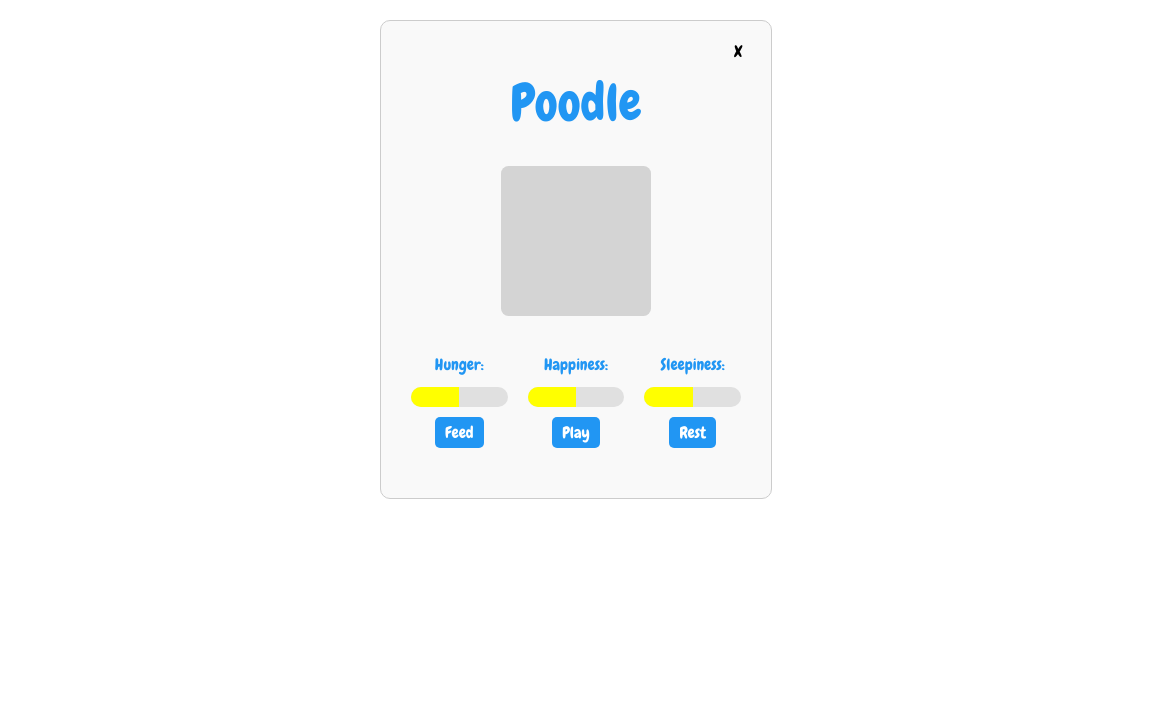
Test: Animal Component › closes the confirmation modal when No is clicked
The image size is (1152, 720).
Click the button "X" at [738, 51], box [715,31,761,71]
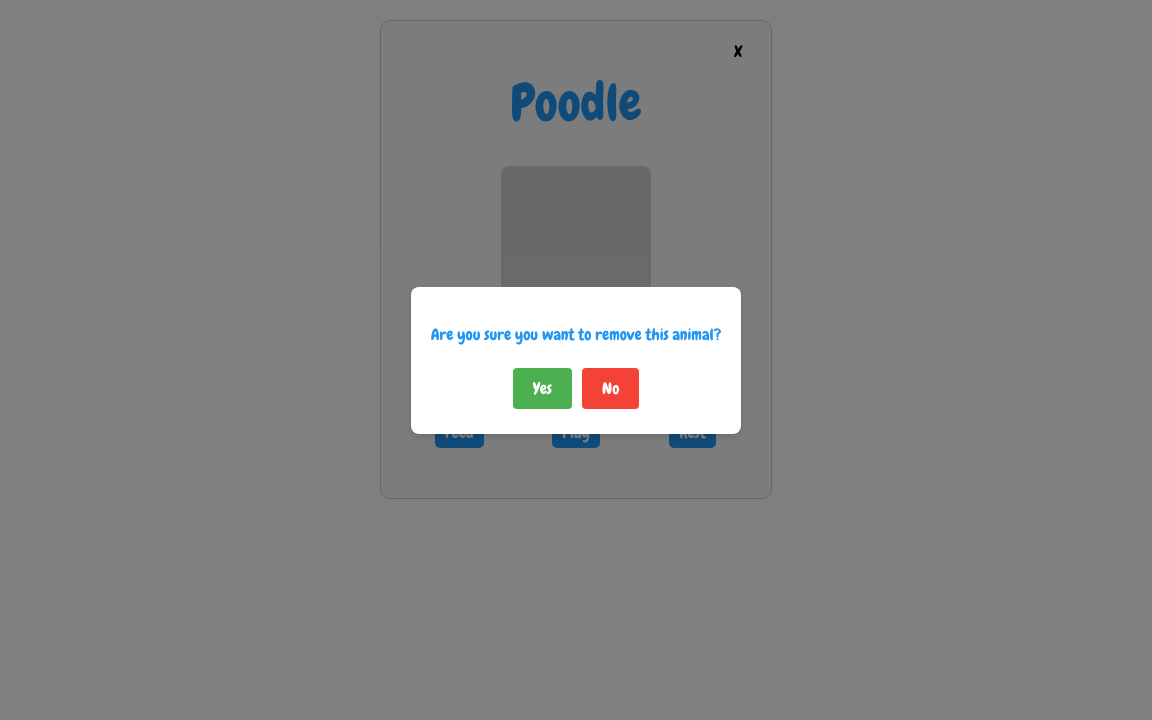
Click the button "No" at [611, 388], box [582,368,639,408]
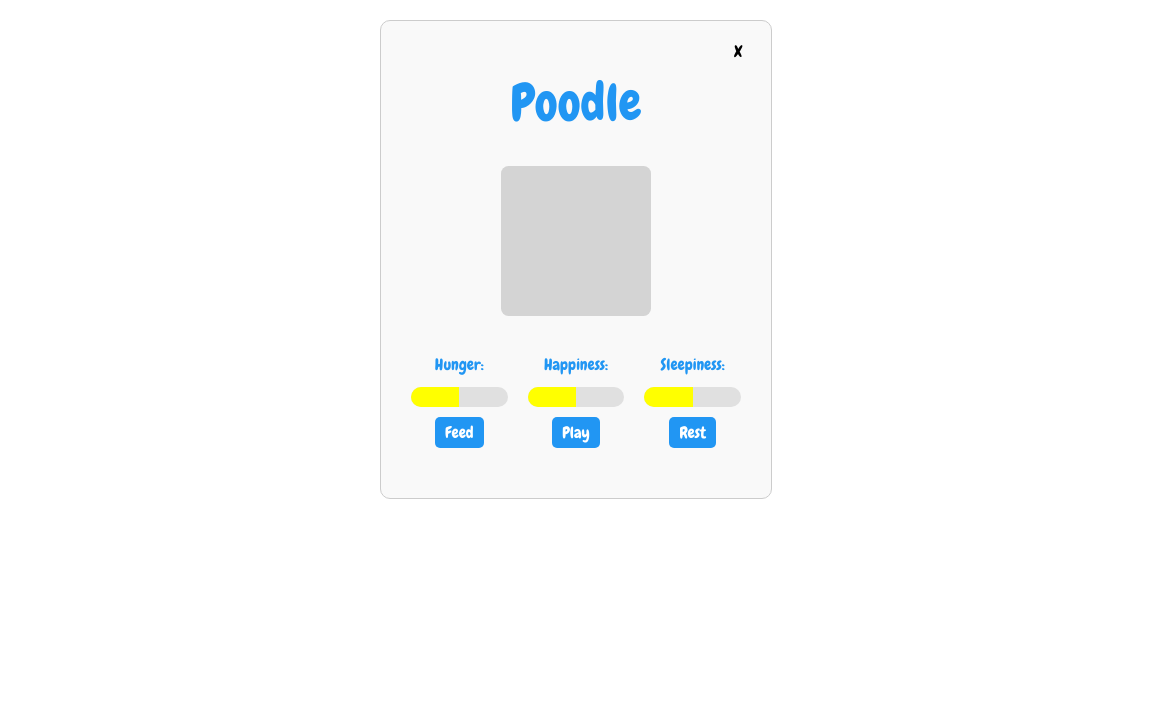
Expected: the text "Are you sure you want to remove this animal?" is gone
